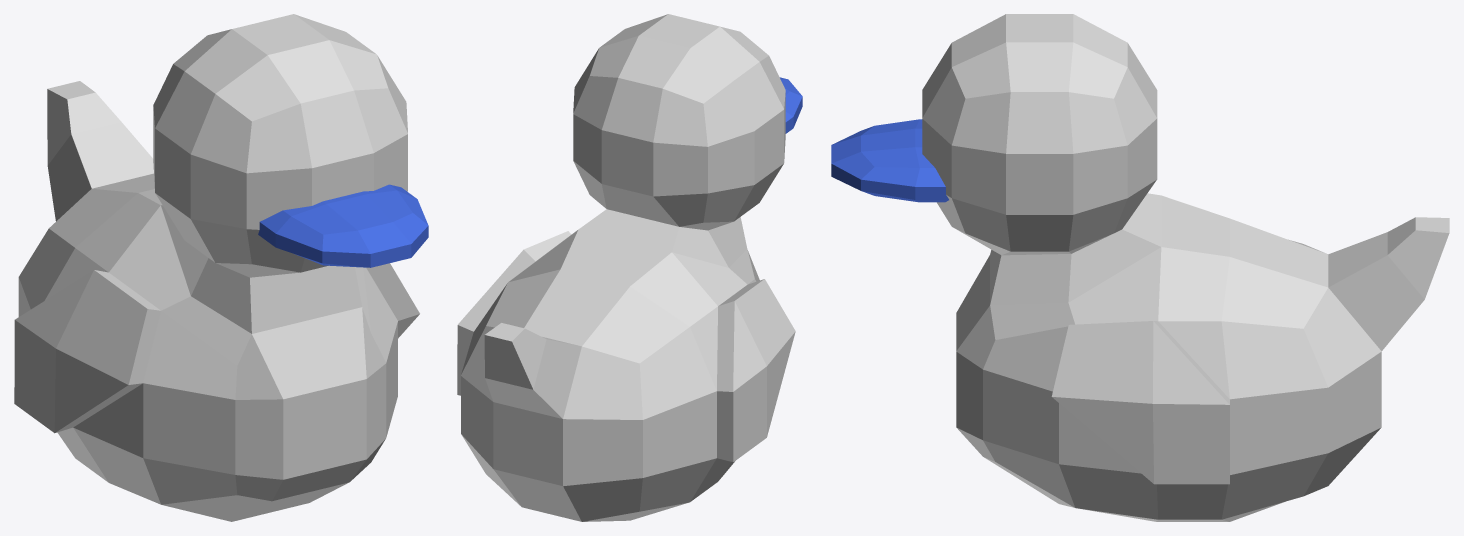
The model's file is PatitoHule.fbx.
3 renders of one model, left to right at view 1: azimuth 30°, elevation 25°; view 2: azimuth 150°, elevation 25°; view 3: azimuth 270°, elevation 25°, orthographic. The views are drawn at different scales.
Parts seen in each view (by area): view 1: Roundcube.001, Roundcube.002; view 2: Roundcube.001, Roundcube.002; view 3: Roundcube.001, Roundcube.002.
Part boxes in pixels (left/top/right/bottom): Roundcube.001: left=14, top=14, right=419, bottom=521; Roundcube.002: left=258, top=184, right=428, bottom=267; Roundcube.001: left=457, top=14, right=795, bottom=521; Roundcube.002: left=780, top=77, right=802, bottom=133; Roundcube.001: left=922, top=14, right=1449, bottom=521; Roundcube.002: left=831, top=119, right=948, bottom=202.
Size of the model in its own units: 428 by 622 by 734.
